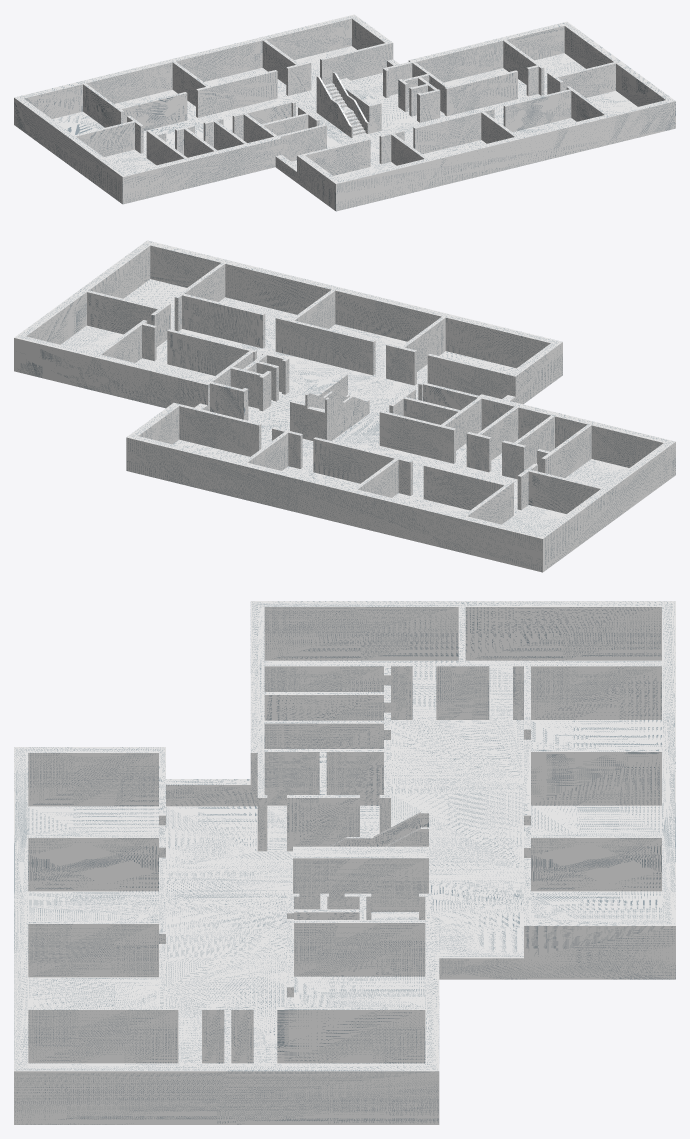
File: school_4_EMPTY.dae
The picture shows the model from 3 angles, top to bottom: view 1: azimuth 30°, elevation 25°; view 2: azimuth 150°, elevation 25°; view 3: azimuth 270°, elevation 25°; orthographic projection. The views are drawn at different scales.
Visible parts, largest first — view 1: SketchUp (×2); view 2: SketchUp (×2); view 3: SketchUp (×2).
Boxes of the visible parts, x1,y1,x2,y2 form: SketchUp (×2): [14, 14, 675, 211]; SketchUp (×2): [14, 240, 675, 572]; SketchUp (×2): [14, 601, 675, 1124].
Bounding box in the file's own units: 2224 × 1324 × 157.
